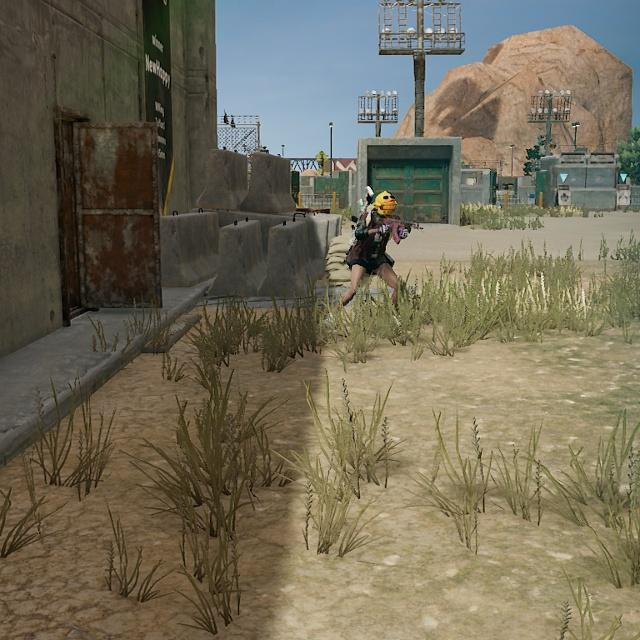head: (373, 190, 397, 219)
people: (335, 189, 410, 322)
